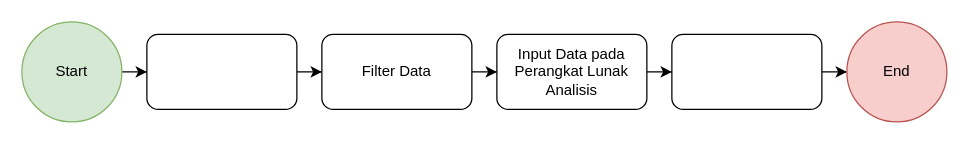
This 969x144 diagram has some shape labels left out. The box of each missing label's shape, as (x1, y1, x2, y2) in pixels:
Interpretasi Data: (671, 33, 822, 109)
Pengumpulan Data: (146, 33, 297, 109)
